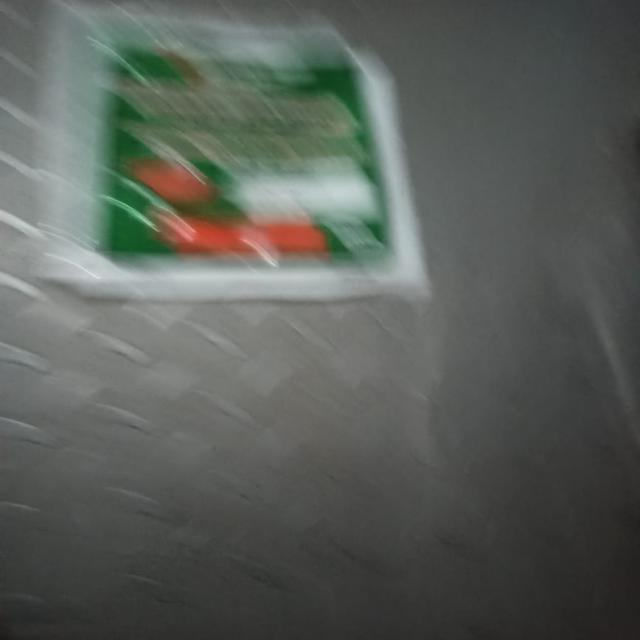Central Tea: (2, 18, 408, 292)
